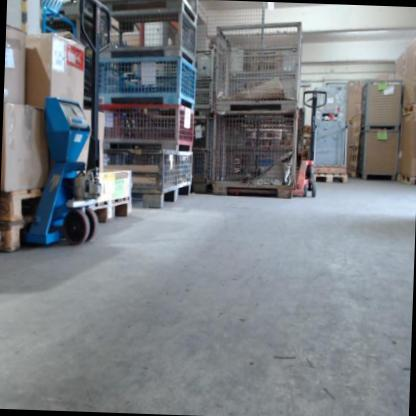pallet: (0, 190, 53, 224), (0, 214, 43, 254), (88, 195, 135, 228), (349, 110, 364, 179), (309, 171, 349, 184), (399, 173, 416, 188), (401, 103, 416, 116)
pallet_truck: (26, 18, 115, 251), (291, 88, 329, 200)
stillage: (212, 18, 304, 113), (209, 106, 301, 200), (95, 146, 195, 209), (95, 8, 198, 66), (95, 53, 198, 110), (94, 102, 196, 152), (359, 79, 403, 132), (361, 129, 401, 183), (96, 0, 199, 19), (192, 116, 212, 195), (197, 74, 213, 115)
